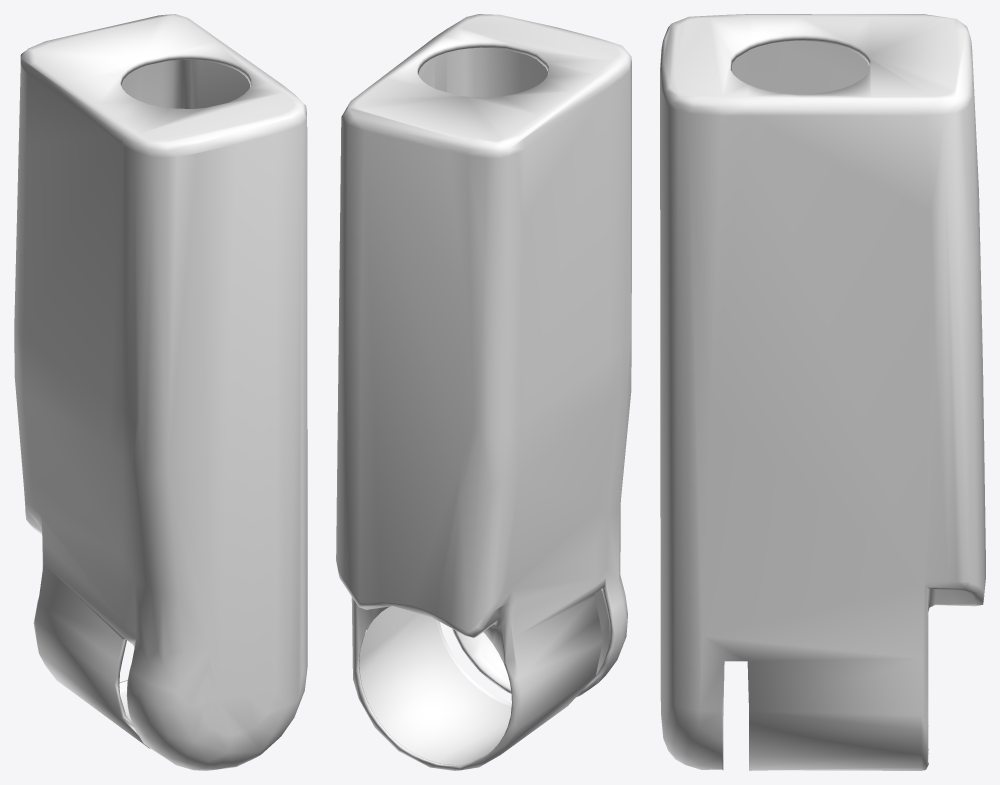
Rendered from arm_flex_light.dae.
The picture shows the model from 3 angles, left to right: view 1: azimuth 30°, elevation 25°; view 2: azimuth 150°, elevation 25°; view 3: azimuth 270°, elevation 25°; orthographic projection. The views are drawn at different scales.
Visible parts, largest first — view 1: Arm_Flex; view 2: Arm_Flex; view 3: Arm_Flex.
Part boxes in pixels (bbox=[...]): Arm_Flex: bbox=[14, 14, 307, 770]; Arm_Flex: bbox=[336, 14, 631, 770]; Arm_Flex: bbox=[660, 14, 985, 770].
Bounding box in the file's own units: 0.0765 × 0.1146 × 0.2728.
1 material, 1 textured.
